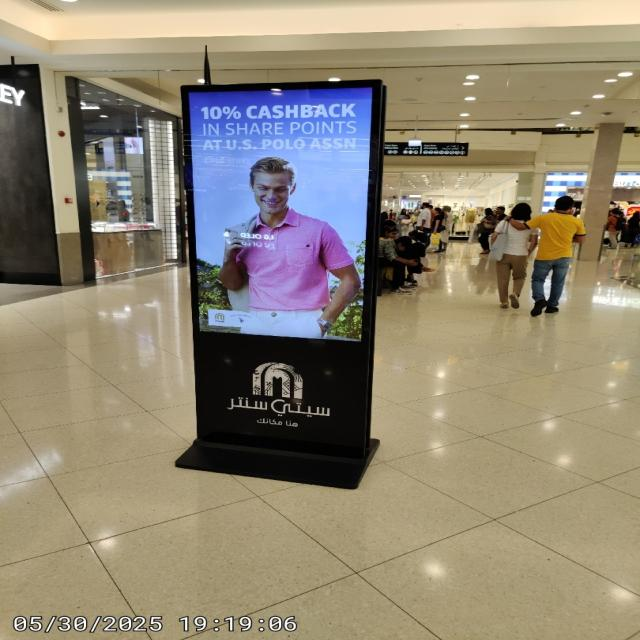mupi: (179, 79, 384, 450)
